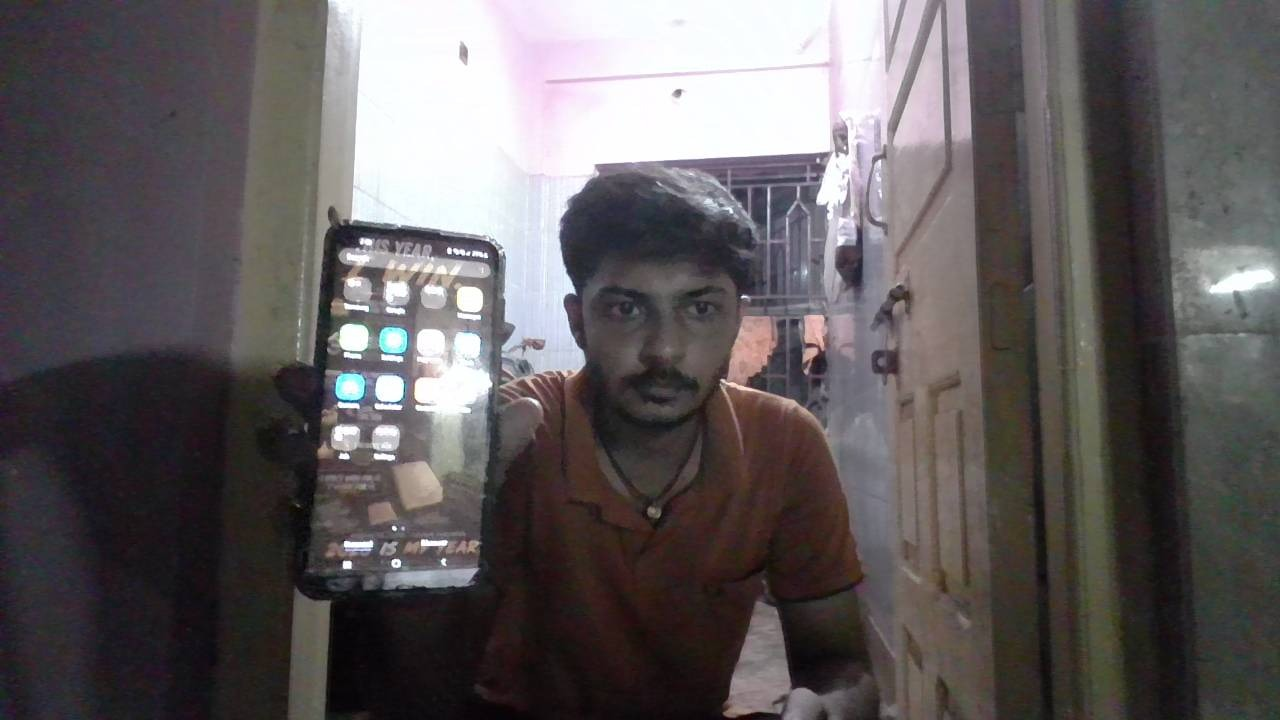red_box: (672, 394, 831, 559), (569, 444, 649, 531), (816, 497, 860, 576)
